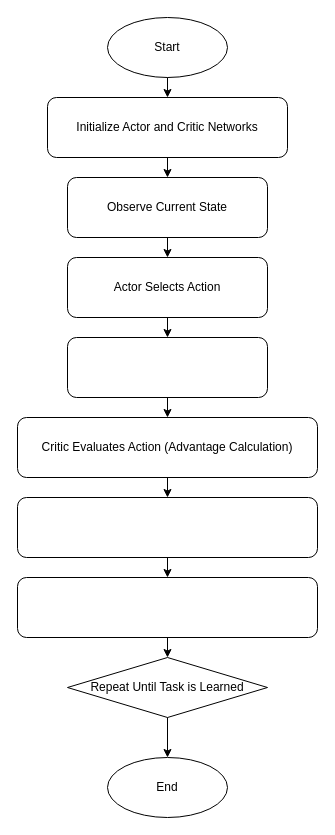
The diagram is 335 pixels wide and 835 high, and some of its shapes have lost their labels. Here are the shapes that lost their labels. From the top down, the centre of each, then its label:
At (167,367): "Take Action, Receive Reward".
At (167,527): "Update Critic (Improve Value Function)".
At (167,607): "Update Actor (Improve Policy)".
